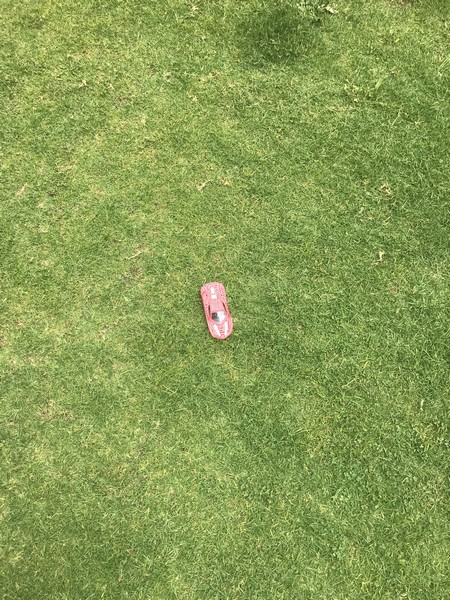RC: (197, 279, 234, 342)
